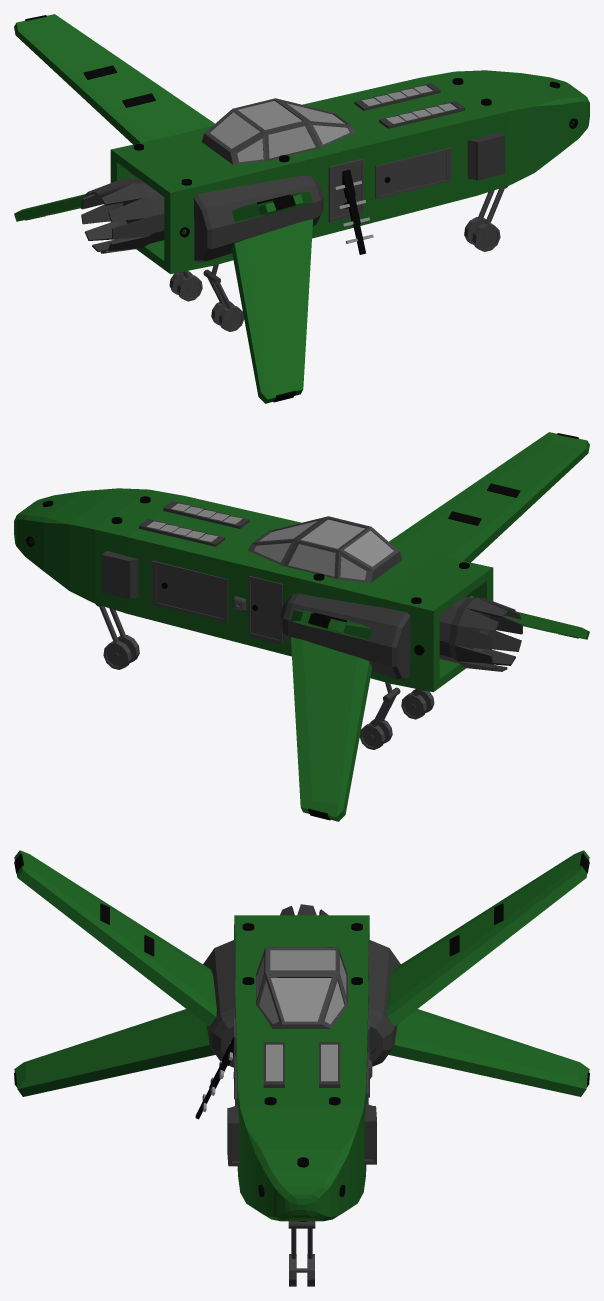
File: FighterGen7_green_closed.glb
3 views of the same model, one above another, from view 1: azimuth 30°, elevation 25°; view 2: azimuth 150°, elevation 25°; view 3: azimuth 270°, elevation 25° (orthographic). The views are drawn at different scales.
Visible parts, largest first — view 1: Body, Cube.003, Cylinder, Cylinder.002, Cube.099, Cube.116, Cube.043, Cube.120, Cube.108, Cube.104, Cube.105, Cube.106 (+3 smaller); view 2: Body, Cube.003, Cylinder, Cylinder.002, Cube.114, Cube.099, Cube.115, Cube.043, Cube.108, Cube.104, Cube.105, Cube.106 (+3 smaller); view 3: Cube.003, Body, Cylinder, Cube.099, Cube.102, Cube.043, Cube.104, Cube.103, Cube.108.
Boxes of the visible parts, bbox=[...] form: Body: bbox=[110, 70, 589, 274]; Cube.003: bbox=[14, 14, 312, 403]; Cylinder: bbox=[193, 175, 323, 261]; Cylinder.002: bbox=[81, 178, 164, 253]; Cube.099: bbox=[201, 98, 355, 164]; Cube.116: bbox=[375, 147, 451, 199]; Cube.043: bbox=[467, 132, 504, 180]; Cube.120: bbox=[328, 158, 363, 222]; Cube.108: bbox=[354, 83, 464, 128]; Cube.104: bbox=[238, 100, 301, 129]; Cube.105: bbox=[268, 126, 315, 158]; Cube.106: bbox=[210, 112, 259, 148]; Body: bbox=[14, 488, 493, 692]; Cube.003: bbox=[291, 432, 589, 821]; Cylinder: bbox=[280, 593, 410, 679]; Cylinder.002: bbox=[439, 596, 522, 671]; Cube.114: bbox=[151, 560, 228, 622]; Cube.099: bbox=[248, 516, 402, 582]; Cube.115: bbox=[248, 575, 282, 644]; Cube.043: bbox=[101, 551, 138, 599]; Cube.108: bbox=[139, 501, 249, 546]; Cube.104: bbox=[301, 519, 364, 548]; Cube.105: bbox=[288, 544, 335, 576]; Cube.106: bbox=[344, 530, 393, 566]; Cube.003: bbox=[14, 850, 589, 1096]; Body: bbox=[234, 915, 369, 1221]; Cylinder: bbox=[203, 939, 400, 1067]; Cube.099: bbox=[256, 947, 347, 1028]; Cube.102: bbox=[271, 977, 331, 1021]; Cube.043: bbox=[227, 1104, 376, 1166]; Cube.104: bbox=[270, 950, 335, 970]; Cube.103: bbox=[259, 981, 344, 1024]; Cube.108: bbox=[263, 1042, 340, 1087].
Bounding box in the file's own units: 18.67 × 7.98 × 16.83.
